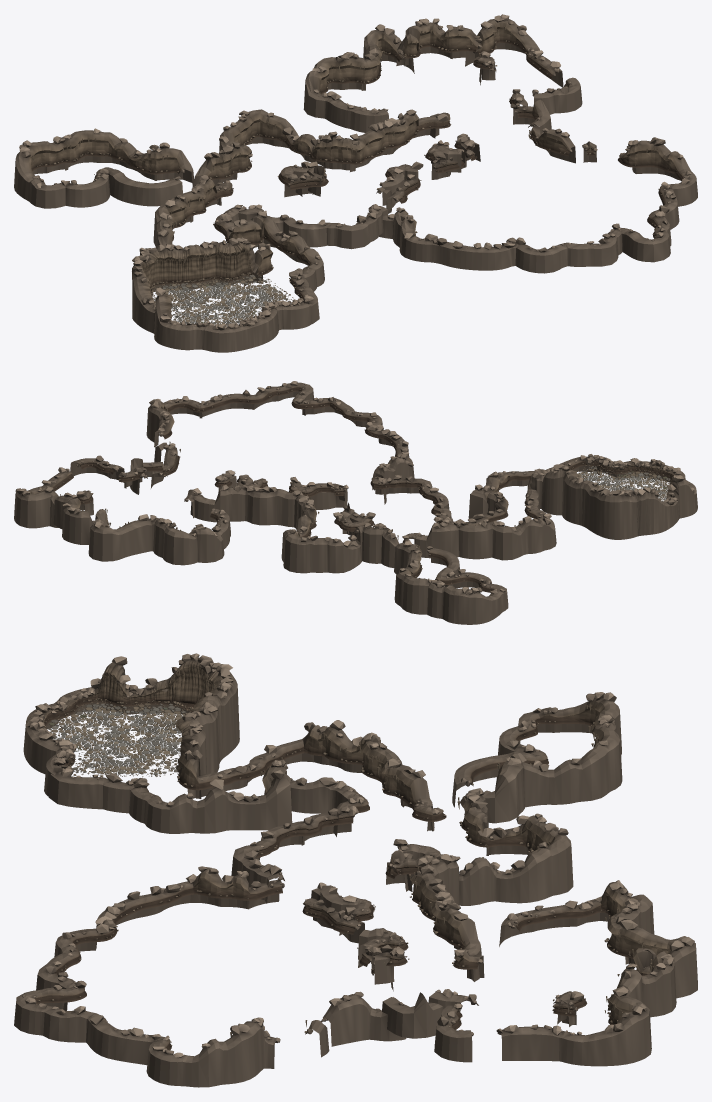
File: grotto-cave.glb
The picture shows the model from 3 angles, top to bottom: view 1: azimuth 30°, elevation 25°; view 2: azimuth 150°, elevation 25°; view 3: azimuth 270°, elevation 25°; orthographic projection. The views are drawn at different scales.
Visible parts, largest first — view 1: cavewall_west-floor-0, cavewall_temple-water-0, cavewall_entrance-floor-0, cavewall_hoard-floor-0, cavewall_throne-water-0, caverock_west-floor-0, cavefloor_entrance-floor-0, cavewall_pool-water-0, cavewall_dais-floor-0, caverock_temple-water-0, caverock_entrance-floor-0, caverock_throne-water-0 (+2 smaller); view 2: cavewall_west-floor-0, cavewall_throne-water-0, cavewall_entrance-floor-0, cavewall_temple-water-0, cavewall_hoard-floor-0, caverock_west-floor-0, caverock_temple-water-0, cavewall_dais-floor-0, caverock_entrance-floor-0, cavefloor_entrance-floor-0, cavewall_pool-water-0, caverock_throne-water-0 (+2 smaller); view 3: cavewall_west-floor-0, cavewall_temple-water-0, cavewall_throne-water-0, cavewall_hoard-floor-0, cavewall_entrance-floor-0, cavefloor_entrance-floor-0, caverock_west-floor-0, caverock_entrance-floor-0, caverock_temple-water-0, cavewall_pool-water-0, cavewall_dais-floor-0, caverock_throne-water-0 (+2 smaller).
Boxes of the visible parts, x1,y1,x2,y2 form: cavewall_west-floor-0: (153,99,551,323); cavewall_temple-water-0: (379,125,697,273); cavewall_entrance-floor-0: (132,242,311,352); cavewall_hoard-floor-0: (14,130,194,208); cavewall_throne-water-0: (303,19,582,132); caverock_west-floor-0: (157,103,542,301); cavefloor_entrance-floor-0: (151,273,293,325); cavewall_pool-water-0: (268,165,395,249); cavewall_dais-floor-0: (396,22,495,80); caverock_temple-water-0: (387,128,691,252); caverock_entrance-floor-0: (132,237,309,330); caverock_throne-water-0: (312,14,571,113); cavewall_west-floor-0: (129,456,599,573); cavewall_throne-water-0: (14,458,230,565); cavewall_entrance-floor-0: (541,457,697,539); cavewall_temple-water-0: (146,382,414,509); cavewall_hoard-floor-0: (394,543,508,624); caverock_west-floor-0: (140,455,592,547); caverock_temple-water-0: (149,381,413,490); cavewall_dais-floor-0: (53,490,109,544); caverock_entrance-floor-0: (544,454,694,505); cavefloor_entrance-floor-0: (575,463,670,501); cavewall_pool-water-0: (334,478,451,535); caverock_throne-water-0: (15,455,227,538); cavewall_west-floor-0: (48,725,573,1038); cavewall_temple-water-0: (14,867,406,1087); cavewall_throne-water-0: (428,882,697,1066); cavewall_hoard-floor-0: (452,698,622,823); cavewall_entrance-floor-0: (23,658,239,798); cavefloor_entrance-floor-0: (46,699,190,777); caverock_west-floor-0: (60,720,568,1008); caverock_entrance-floor-0: (25,653,233,773); caverock_temple-water-0: (22,866,380,1058); cavewall_pool-water-0: (231,812,413,921); cavewall_dais-floor-0: (553,948,676,1026); caverock_throne-water-0: (435,880,694,1036).
Bounding box in the file's own units: 162 × 16.37 × 128.
